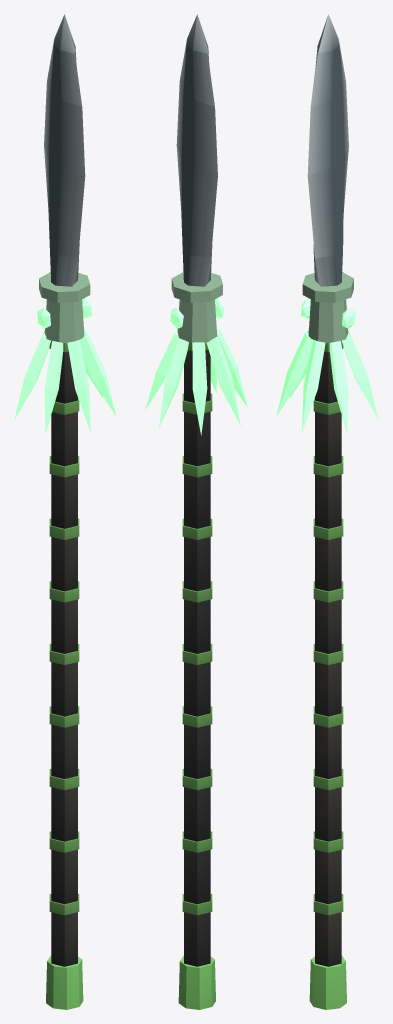
File: polearm_uncommon.glb
3 views of the same model, side by side, from view 1: azimuth 30°, elevation 25°; view 2: azimuth 210°, elevation 25°; view 3: azimuth 330°, elevation 25° (orthographic).
Visible parts, largest first — view 1: polearm_uncommon_export; view 2: polearm_uncommon_export; view 3: polearm_uncommon_export.
Boxes of the visible parts, x1,y1,x2,y2 form: polearm_uncommon_export: (14, 14, 116, 1009); polearm_uncommon_export: (145, 14, 247, 1009); polearm_uncommon_export: (276, 14, 378, 1009).
Bounding box in the file's own units: 17.44 × 185 × 17.
